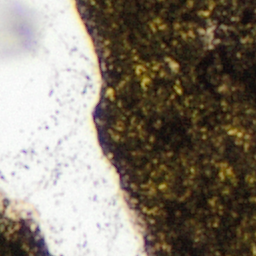cement_matrix: (78, 0, 255, 255), (0, 209, 49, 255)
gravel_crushed_stones: (0, 0, 149, 255)
